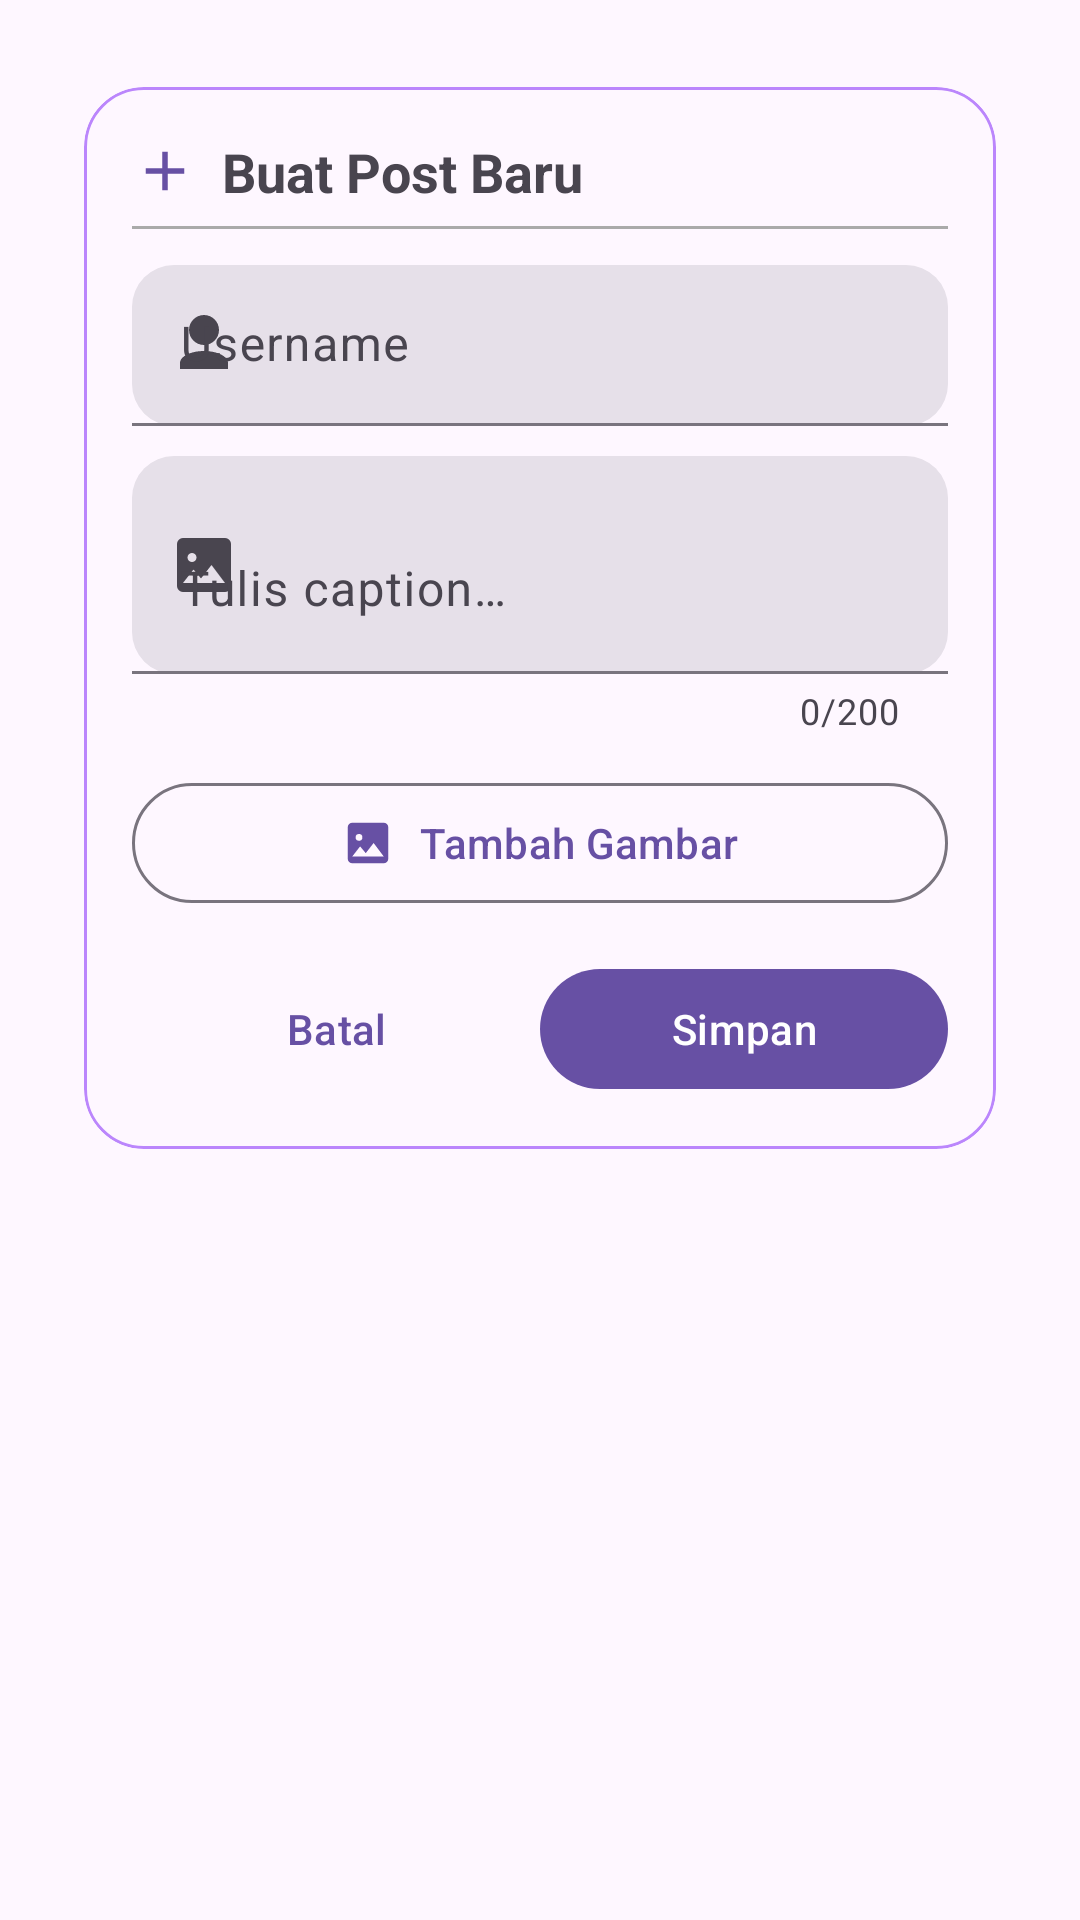

Where icons sit on this 1080*1920 app screen, as (x1, y1, x2, y2):
add: (145, 151, 185, 191)
